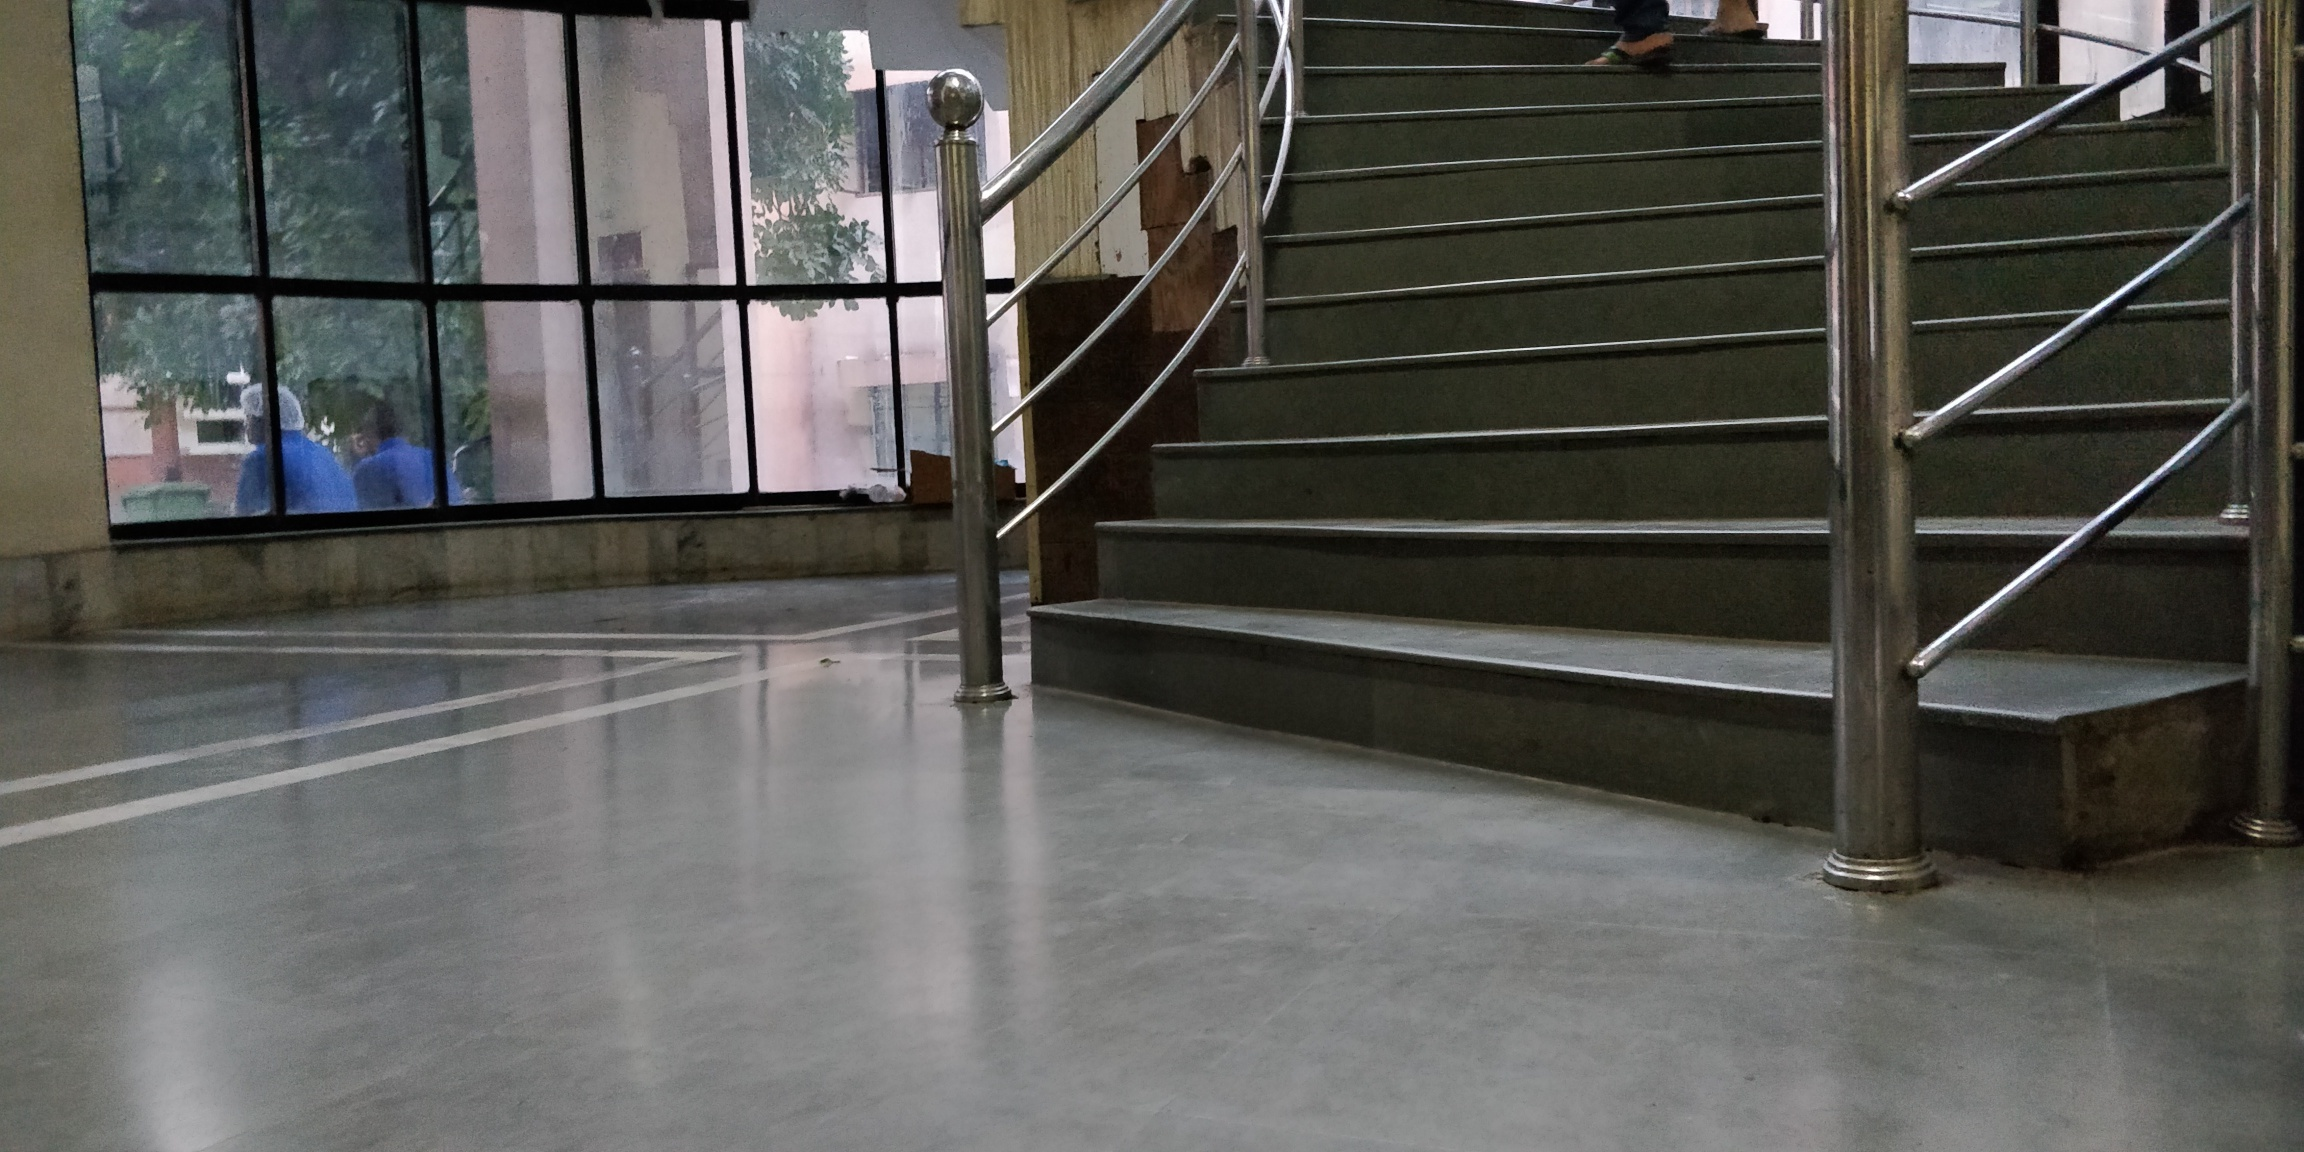stairs_up: (927, 43, 2225, 824)
